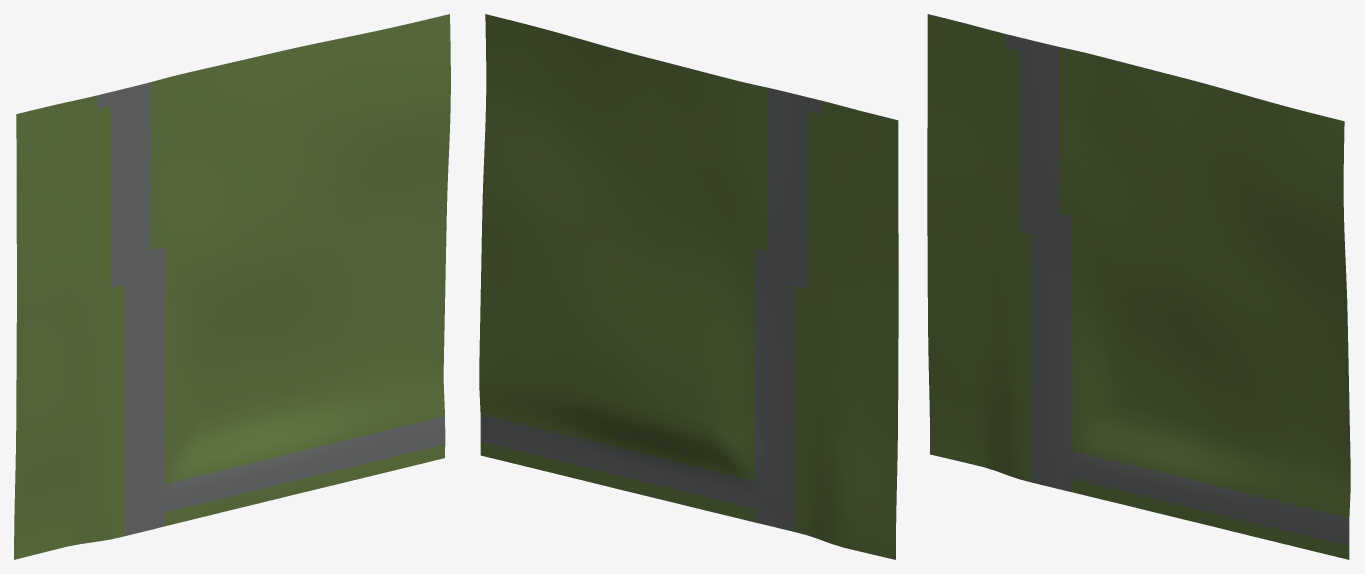
Rendered from island_terrain_21_06.obj.
The picture shows the model from 3 angles, left to right: view 1: azimuth 30°, elevation 25°; view 2: azimuth 150°, elevation 25°; view 3: azimuth 330°, elevation 25°; orthographic projection. The views are drawn at different scales.
Visible parts, largest first — view 1: island_terrain_21_06; view 2: island_terrain_21_06; view 3: island_terrain_21_06.
Boxes of the visible parts, x1=… form: island_terrain_21_06: x1=14, y1=14, x2=450, y2=559; island_terrain_21_06: x1=479, y1=14, x2=898, y2=559; island_terrain_21_06: x1=927, y1=14, x2=1350, y2=559.
Size of the model in its own units: 256 by 256 by 10.97.
